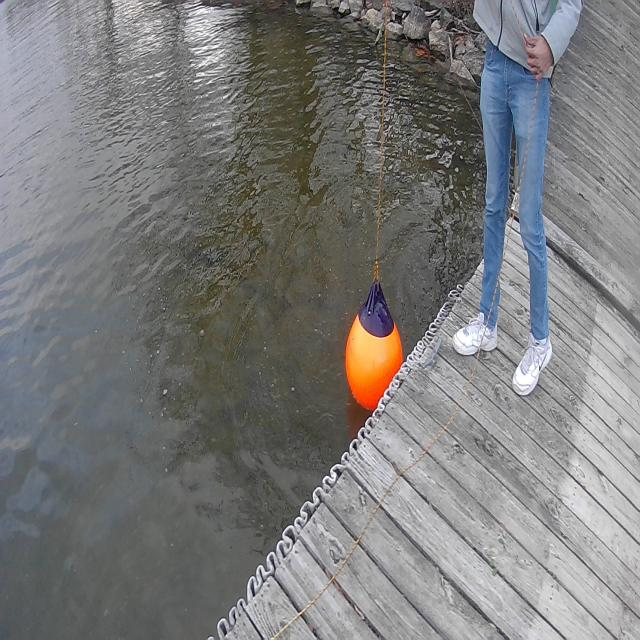Buoy: (338, 272, 411, 428)
